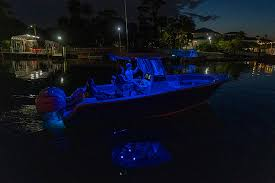boat: (35, 51, 228, 138)
